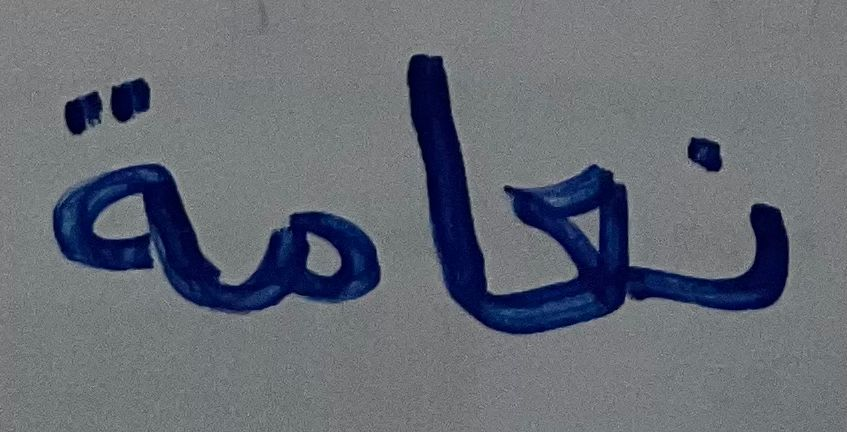alef: (392, 32, 497, 352)
jeem: (500, 151, 668, 356)
meem: (229, 184, 385, 337)
noon: (675, 122, 796, 343)
teh_marbota: (23, 70, 222, 327)
